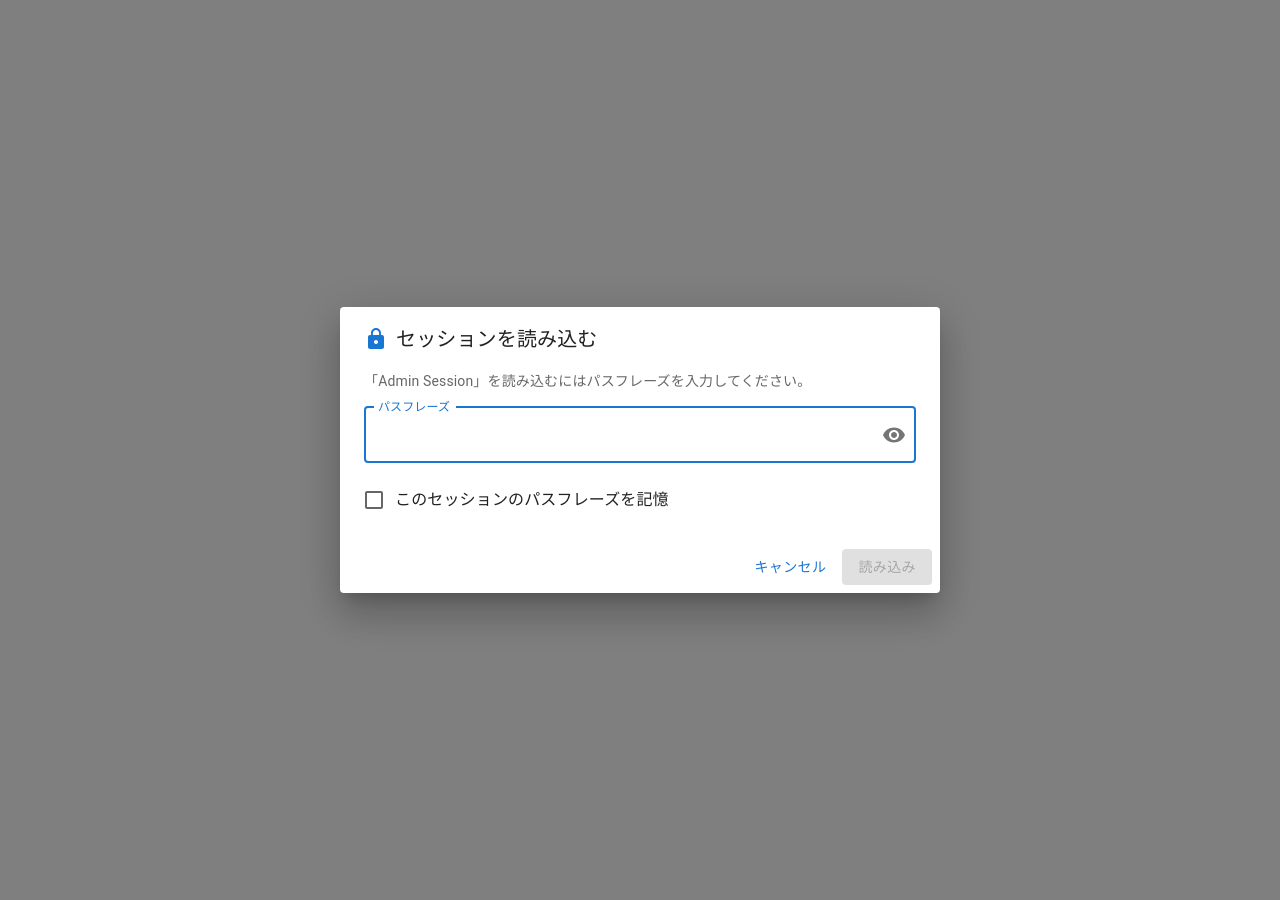
it: PassphraseDialog › パスフレーズ入力 › パスフレーズを入力すると送信ボタンが有効になる
Step 1. Type "my-passphrase" into the password field labelled "パスフレーズ" → (615, 435), box [364,407,866,463]
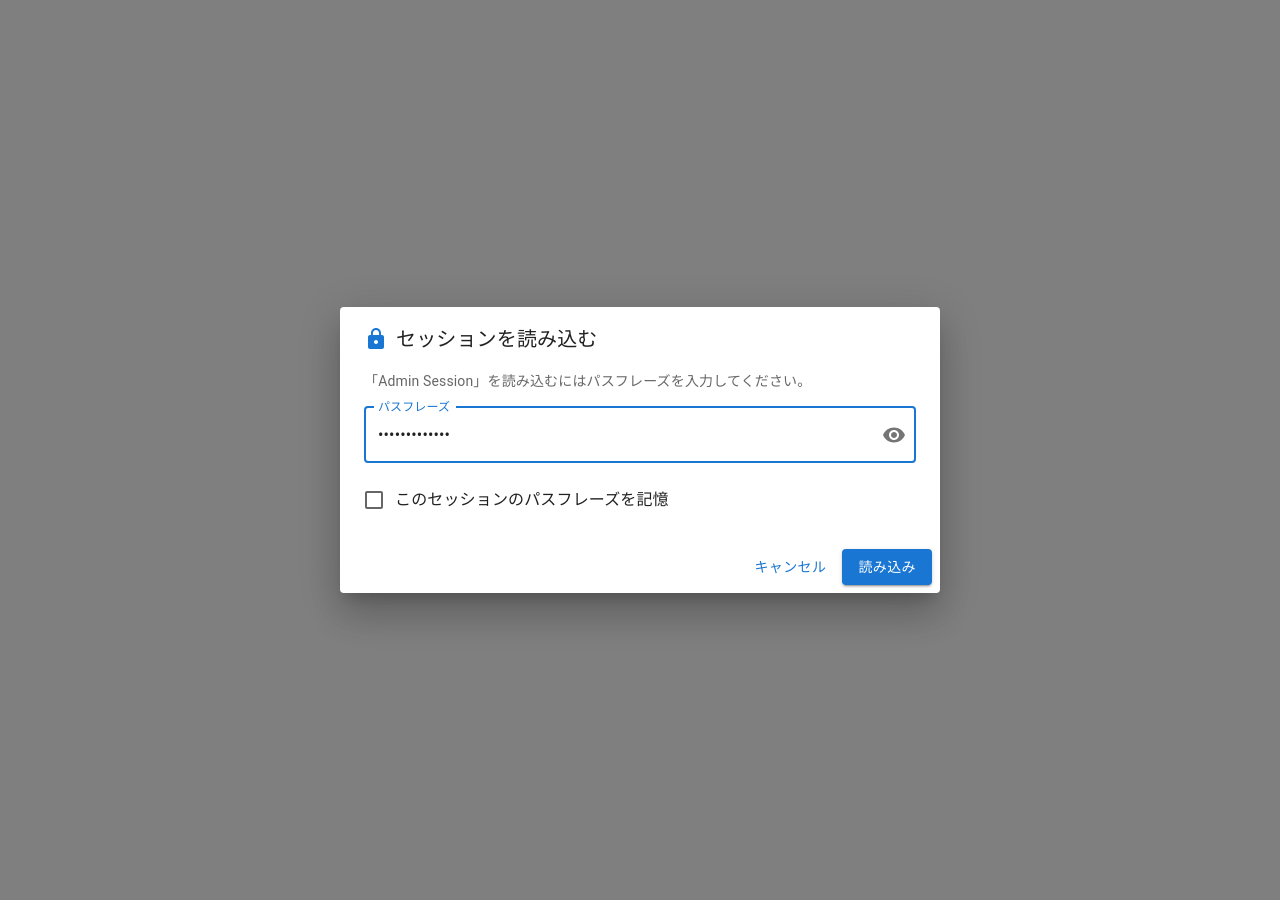
Check: the button "読み込み" is enabled, box [842,549,932,585]
